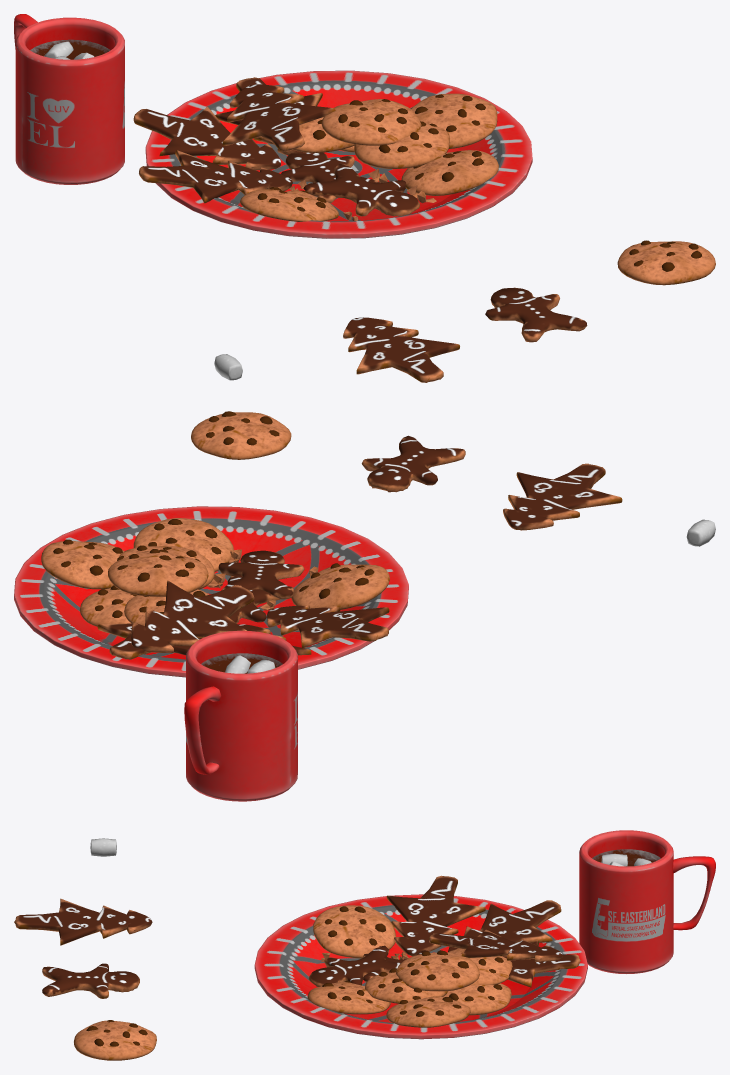
File: christmas_cookies_collection.glb
3 views of the same model, one above another, from view 1: azimuth 30°, elevation 25°; view 2: azimuth 150°, elevation 25°; view 3: azimuth 270°, elevation 25° (orthographic). The views are drawn at different scales.
Visible parts, largest first — view 1: Circle.008, Circle, Cylinder, Plane, Circle.002, Circle.001, Cylinder.001, Cube; view 2: Circle.008, Circle, Cylinder, Plane, Circle.002, Circle.001, Cylinder.001; view 3: Circle.008, Circle, Cylinder, Plane, Circle.002, Circle.001, Cylinder.001, Cube.
Part boxes in pixels (x1,y1,x2,y2): Circle.008: [133, 77, 498, 221]; Circle: [145, 70, 532, 238]; Cylinder: [14, 14, 124, 184]; Plane: [343, 317, 459, 382]; Circle.002: [617, 240, 715, 285]; Circle.001: [485, 287, 587, 342]; Cylinder.001: [30, 39, 110, 59]; Cube: [214, 354, 242, 380]; Circle.008: [41, 518, 389, 659]; Circle: [14, 506, 408, 677]; Cylinder: [184, 630, 297, 801]; Plane: [503, 463, 622, 530]; Circle.002: [191, 411, 291, 459]; Circle.001: [361, 435, 465, 492]; Cylinder.001: [201, 653, 282, 673]; Circle.008: [307, 875, 580, 1027]; Circle: [254, 894, 587, 1039]; Cylinder: [579, 830, 715, 973]; Plane: [14, 898, 152, 945]; Circle.002: [74, 1020, 156, 1060]; Circle.001: [42, 963, 139, 998]; Cylinder.001: [592, 849, 660, 866]; Cube: [90, 838, 116, 856].
Bounding box in the file's own units: 0.7832 × 0.1861 × 1.12.
Materials: 1 (1 with a texture image).
